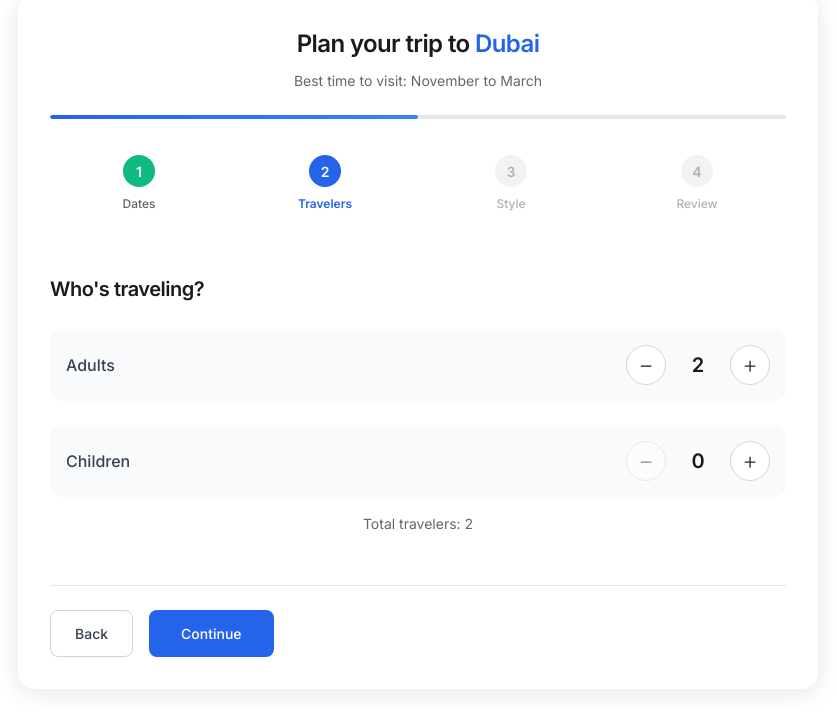
it: TripSetupWizard › Navigation › should navigate back when back button clicked
Step 1. Click the button "Back" → {"x": 92, "y": 634}, box [50,610,133,657]
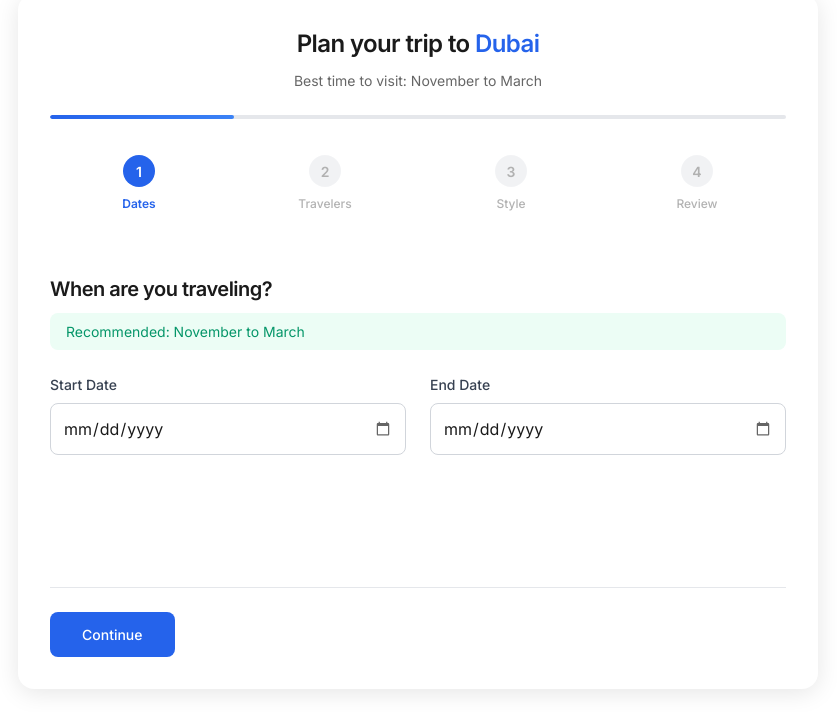
Expected: the element with test id "step-dates" is shown, [50,257,786,487]
